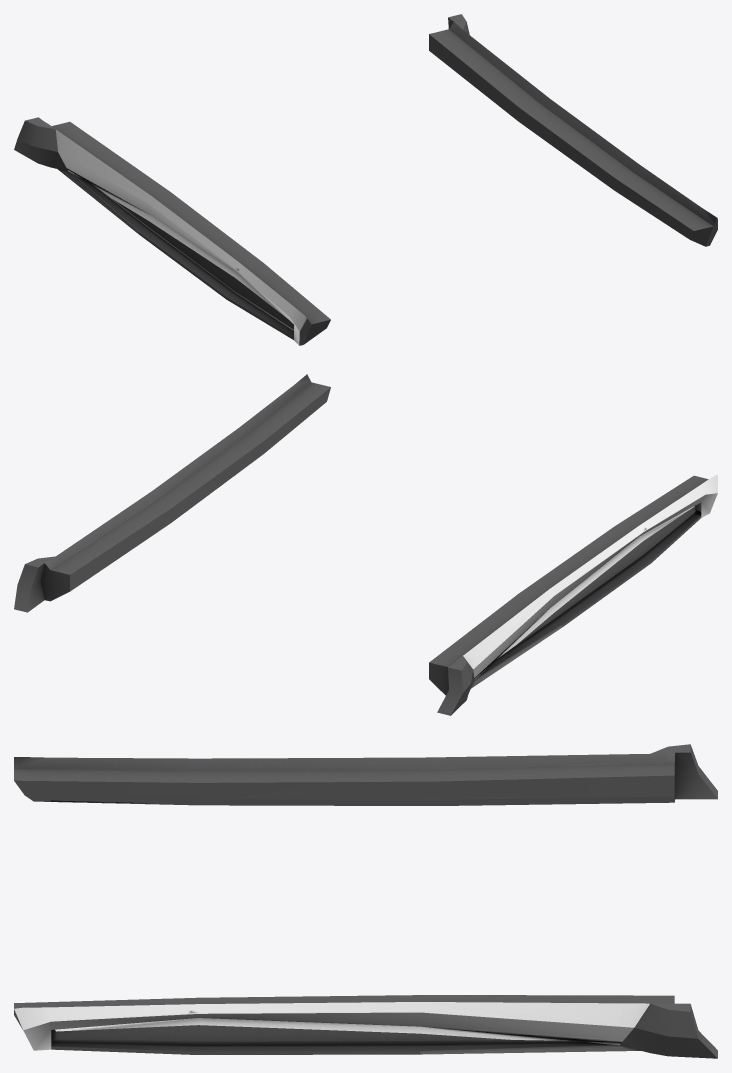
Rendered from Sport_2_Sidepanel_3.fbx.
3 renders of one model, top to bottom at view 1: azimuth 30°, elevation 25°; view 2: azimuth 150°, elevation 25°; view 3: azimuth 270°, elevation 25°, orthographic. The views are drawn at different scales.
Parts seen in each view (by area): view 1: Sport_2_Sidepanel_3; view 2: Sport_2_Sidepanel_3; view 3: Sport_2_Sidepanel_3.
Boxes of the visible parts, x1,y1,x2,y2 form: Sport_2_Sidepanel_3: (14,14,717,345); Sport_2_Sidepanel_3: (14,374,717,715); Sport_2_Sidepanel_3: (14,744,717,1058).
Bounding box in the file's own units: 189 × 15.06 × 206.
